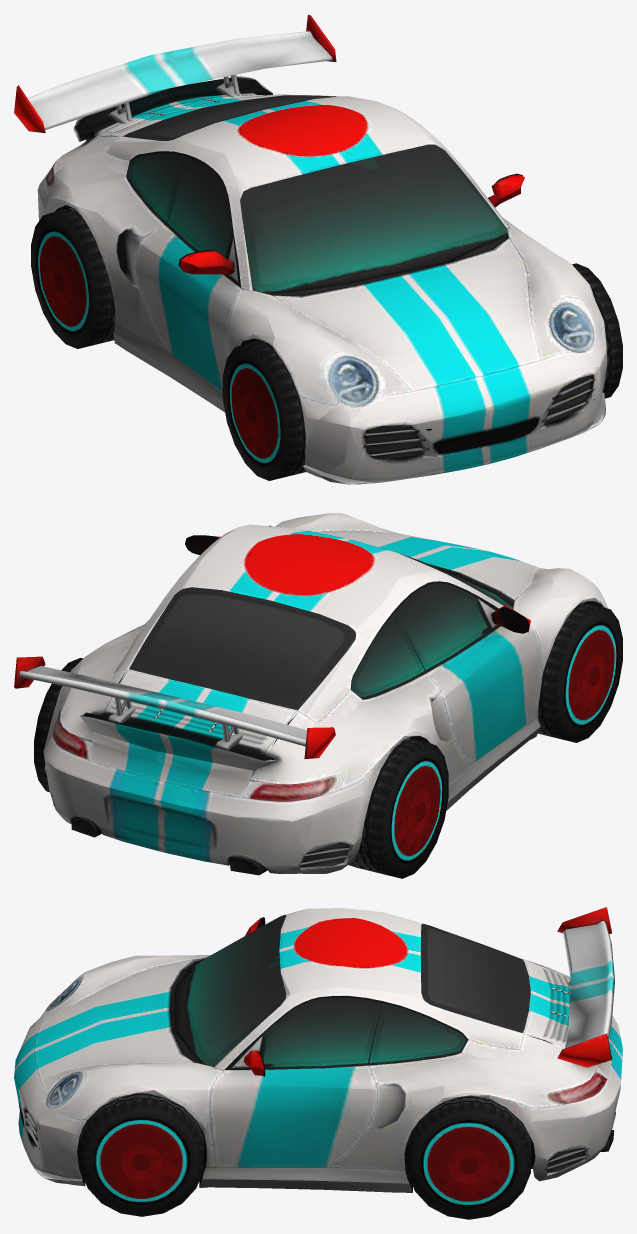
The model's file is Car 9.glb.
The picture shows the model from 3 angles, top to bottom: view 1: azimuth 30°, elevation 25°; view 2: azimuth 150°, elevation 25°; view 3: azimuth 270°, elevation 25°; orthographic projection. The views are drawn at different scales.
Visible parts, largest first — view 1: carBody_low_021, carBody_low_022, tireFrontR_low_018, tireBackR_low_019, tireFrontL_low_014; view 2: carBody_low_021, tireBackR_low_019, tireFrontR_low_018, carBody_low_022, tireBackL_low_020; view 3: carBody_low_021, tireFrontL_low_014, tireBackL_low_020, carBody_low_022.
Boxes of the visible parts, <box> form: carBody_low_021: <box>37,75,607,484</box>; carBody_low_022: <box>14,14,336,132</box>; tireFrontR_low_018: <box>222,340,306,480</box>; tireBackR_low_019: <box>31,207,115,348</box>; tireFrontL_low_014: <box>572,263,622,398</box>; carBody_low_021: <box>43,513,608,875</box>; tireBackR_low_019: <box>348,738,448,878</box>; tireFrontR_low_018: <box>538,602,622,742</box>; carBody_low_022: <box>14,656,335,759</box>; tireBackL_low_020: <box>34,658,82,792</box>; carBody_low_021: <box>14,908,622,1192</box>; tireFrontL_low_014: <box>80,1093,203,1216</box>; tireBackL_low_020: <box>407,1095,530,1219</box>; carBody_low_022: <box>557,907,614,1067</box>.
Bounding box in the file's own units: 0.6758 × 0.4056 × 1.11.
Materials: 3 (3 with a texture image).
